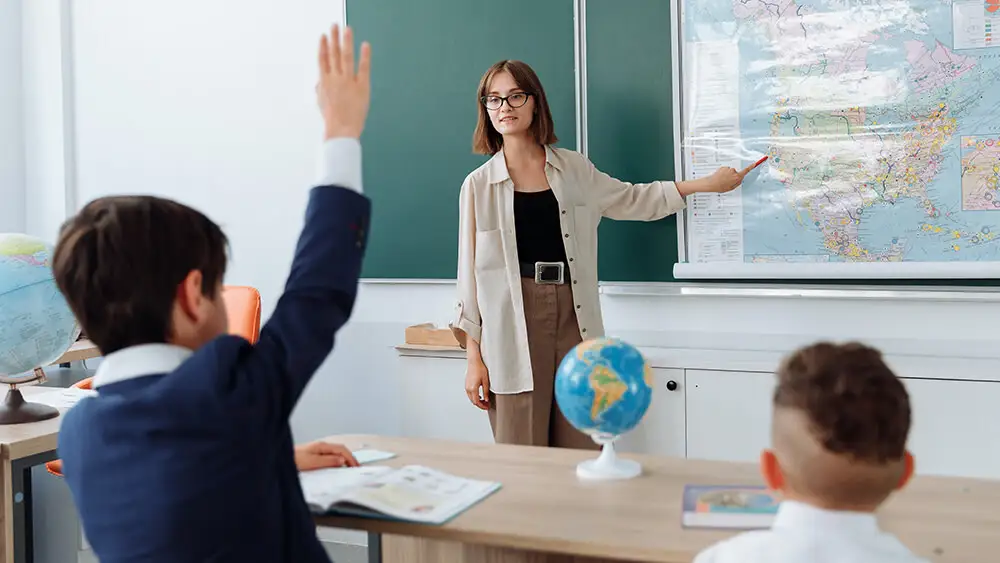pointing_gesture: (700, 165, 762, 195)
